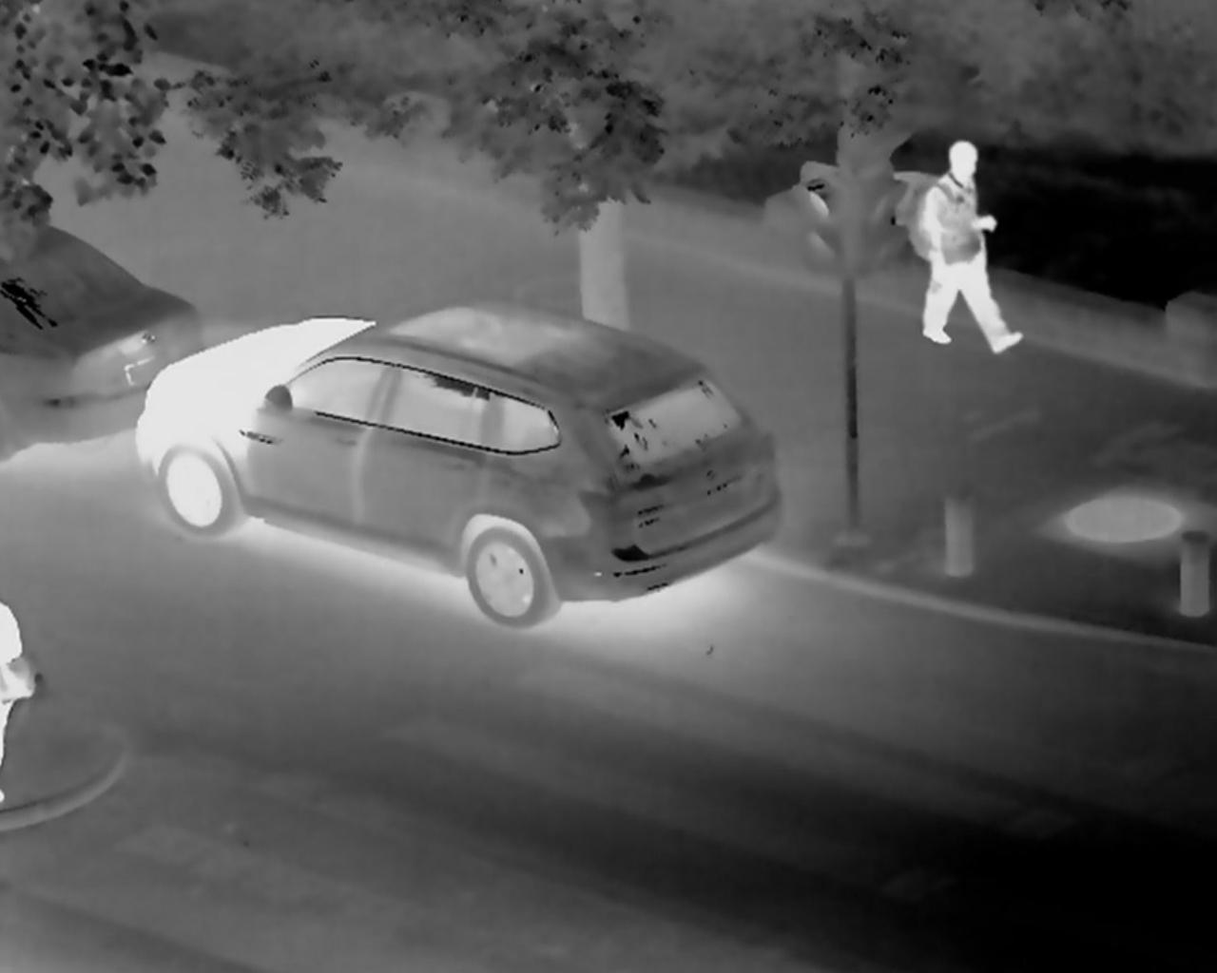person: (903, 139, 1028, 364)
